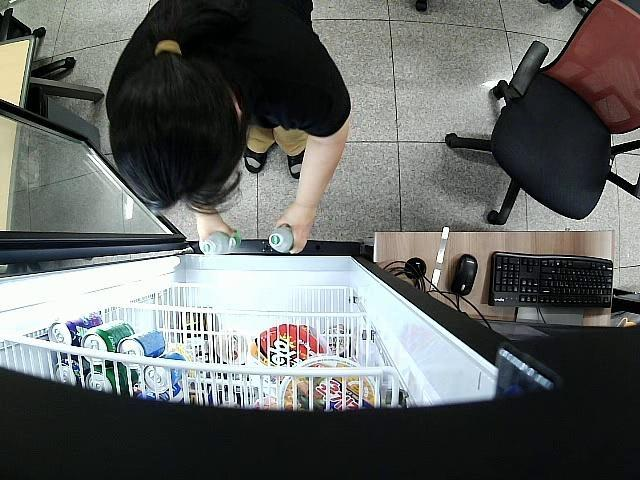18_trevi: (196, 228, 244, 255), (266, 226, 298, 256)
